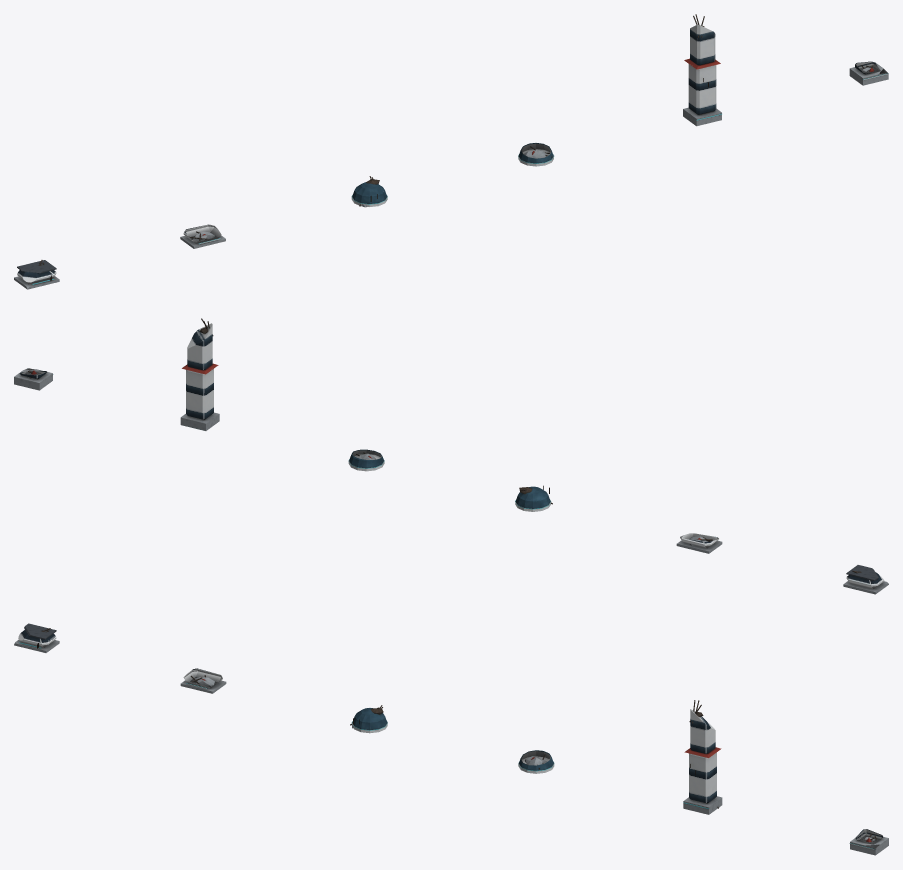
File: future-sinic-houses-damage.glb
3 views of the same model, one above another, from view 1: azimuth 30°, elevation 25°; view 2: azimuth 150°, elevation 25°; view 3: azimuth 330°, elevation 25° (orthographic).
Parts seen in each view (by area): view 1: LOD0.004, LOD0, LOD0.002, LOD0.001, LOD0.005, LOD0.003; view 2: LOD0.004, LOD0, LOD0.002, LOD0.003, LOD0.001, LOD0.005; view 3: LOD0.004, LOD0, LOD0.001, LOD0.002, LOD0.005, LOD0.003.
Part boxes in pixels (bbox=[...]): LOD0.004: bbox=[683, 14, 721, 126]; LOD0: bbox=[14, 260, 59, 289]; LOD0.002: bbox=[351, 176, 387, 207]; LOD0.001: bbox=[180, 224, 225, 248]; LOD0.005: bbox=[849, 61, 888, 85]; LOD0.003: bbox=[518, 143, 554, 166]; LOD0.004: bbox=[180, 318, 219, 430]; LOD0: bbox=[843, 565, 888, 594]; LOD0.002: bbox=[515, 485, 552, 511]; LOD0.003: bbox=[348, 449, 384, 471]; LOD0.001: bbox=[676, 533, 722, 553]; LOD0.005: bbox=[14, 368, 53, 390]; LOD0.004: bbox=[683, 700, 722, 814]; LOD0: bbox=[14, 623, 59, 652]; LOD0.001: bbox=[180, 668, 226, 693]; LOD0.002: bbox=[350, 705, 387, 733]; LOD0.005: bbox=[849, 829, 888, 855]; LOD0.003: bbox=[518, 750, 554, 773].
Size of what is drawn, in the model's own units: 15.52 by 1.8 by 0.5656.
Materials: 1 (1 with a texture image).
